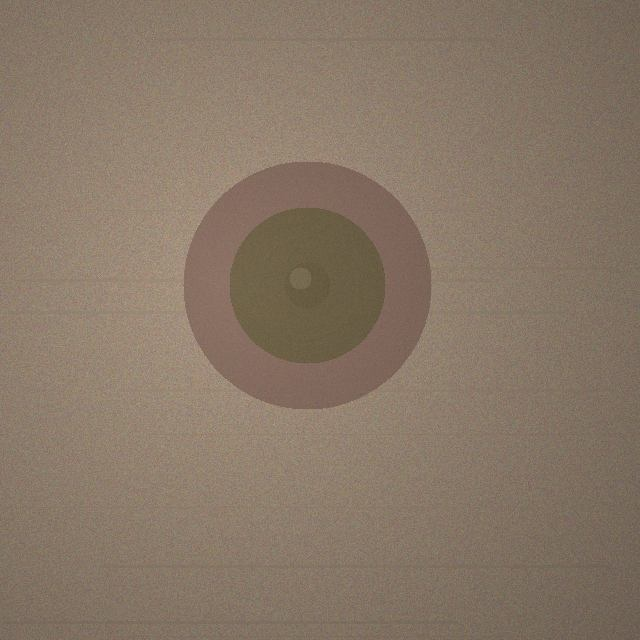good: (183, 161, 431, 409)
